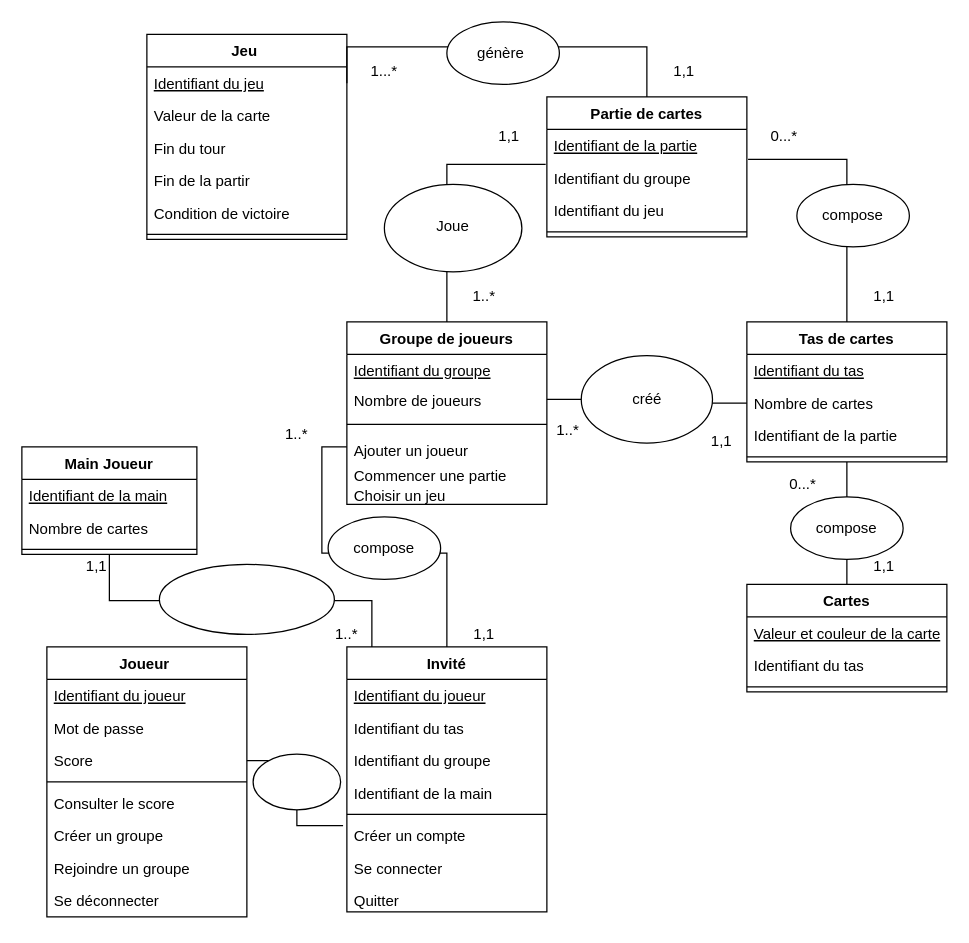
This 969x943 diagram has some shape labels left out. Here are the shapes that lost their labels. From the top down, the centre of each, then its label:
At point 246,598: "dispose".
At point 296,781: "Se connecte".
